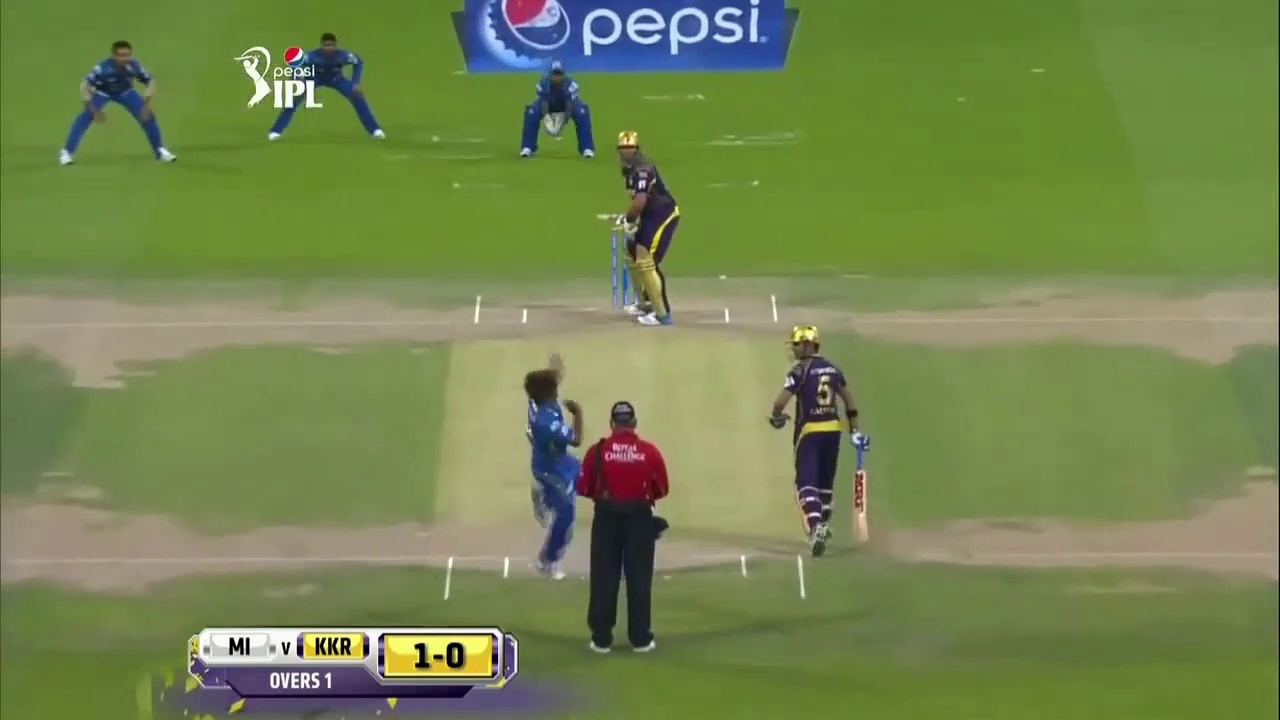bat: (852, 433, 871, 544)
